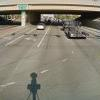Bridge: (4, 0, 99, 22)
